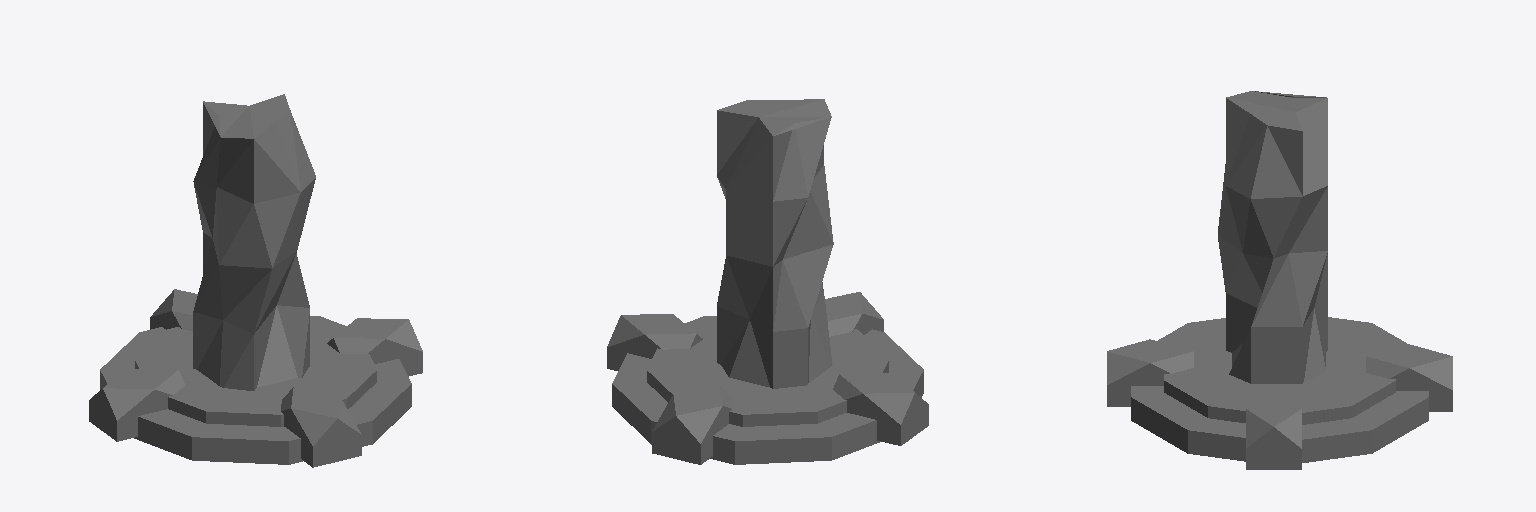
File: Rock_Rune_altar_001.obj
3 views of the same model, side by side, from view 1: azimuth 30°, elevation 25°; view 2: azimuth 150°, elevation 25°; view 3: azimuth 270°, elevation 25° (orthographic).
Parts seen in each view (by area): view 1: polySurface10; view 2: polySurface10; view 3: polySurface10.
Boxes of the visible parts, x1,y1,x2,y2 form: polySurface10: [89, 94, 422, 467]; polySurface10: [607, 99, 928, 464]; polySurface10: [1107, 91, 1452, 469].
Bounding box in the file's own units: 187 × 171 × 187.